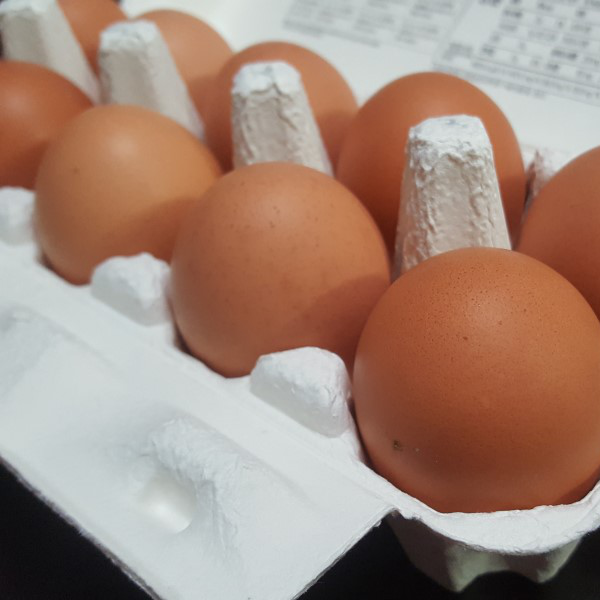egg: (1, 2, 600, 516)
